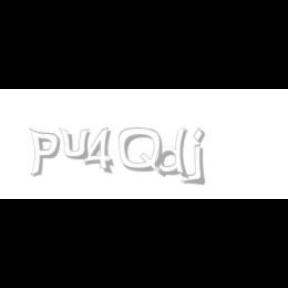4: (84, 128, 114, 174)
P: (28, 128, 60, 178)
Q: (119, 128, 165, 178)
d: (156, 128, 192, 180)
j: (190, 128, 220, 186)
u: (58, 128, 94, 160)
